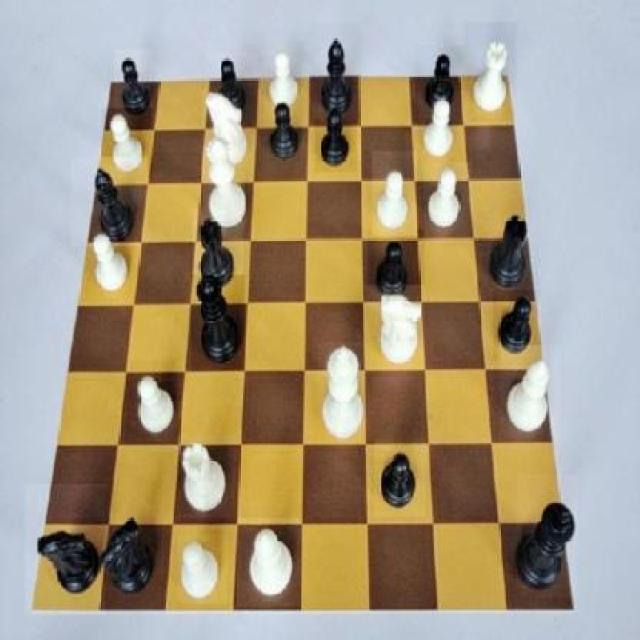bishop: (70, 157, 148, 246), (310, 24, 362, 120)
black-bishop: (515, 476, 578, 600)
black-king: (24, 484, 106, 616), (104, 486, 164, 610)
black-knight: (368, 230, 424, 308), (374, 439, 426, 516), (416, 46, 466, 123), (205, 52, 257, 126), (494, 285, 540, 360), (263, 96, 306, 170), (315, 111, 358, 173), (115, 49, 153, 117)
black-pawn: (190, 276, 244, 372)
black-queen: (477, 197, 539, 290), (192, 209, 242, 297)
black-rook: (500, 344, 560, 440), (237, 518, 301, 608)
white-bishop: (318, 343, 368, 443)
white-king: (364, 284, 426, 372), (201, 88, 254, 172)
white-knight: (126, 360, 179, 438), (372, 152, 417, 237), (425, 158, 472, 238), (418, 91, 469, 163), (101, 109, 152, 180), (178, 536, 228, 604), (263, 46, 305, 120), (86, 236, 132, 296)
white-pawn: (203, 134, 245, 234)
white-queen: (465, 23, 517, 123), (177, 436, 237, 518)
